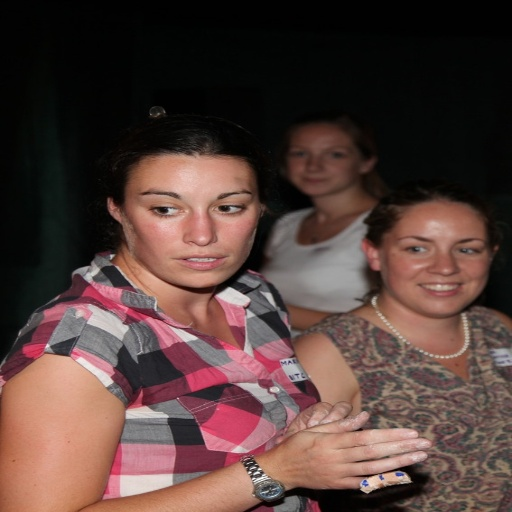hand: (246, 398, 431, 495), (275, 401, 357, 442)
